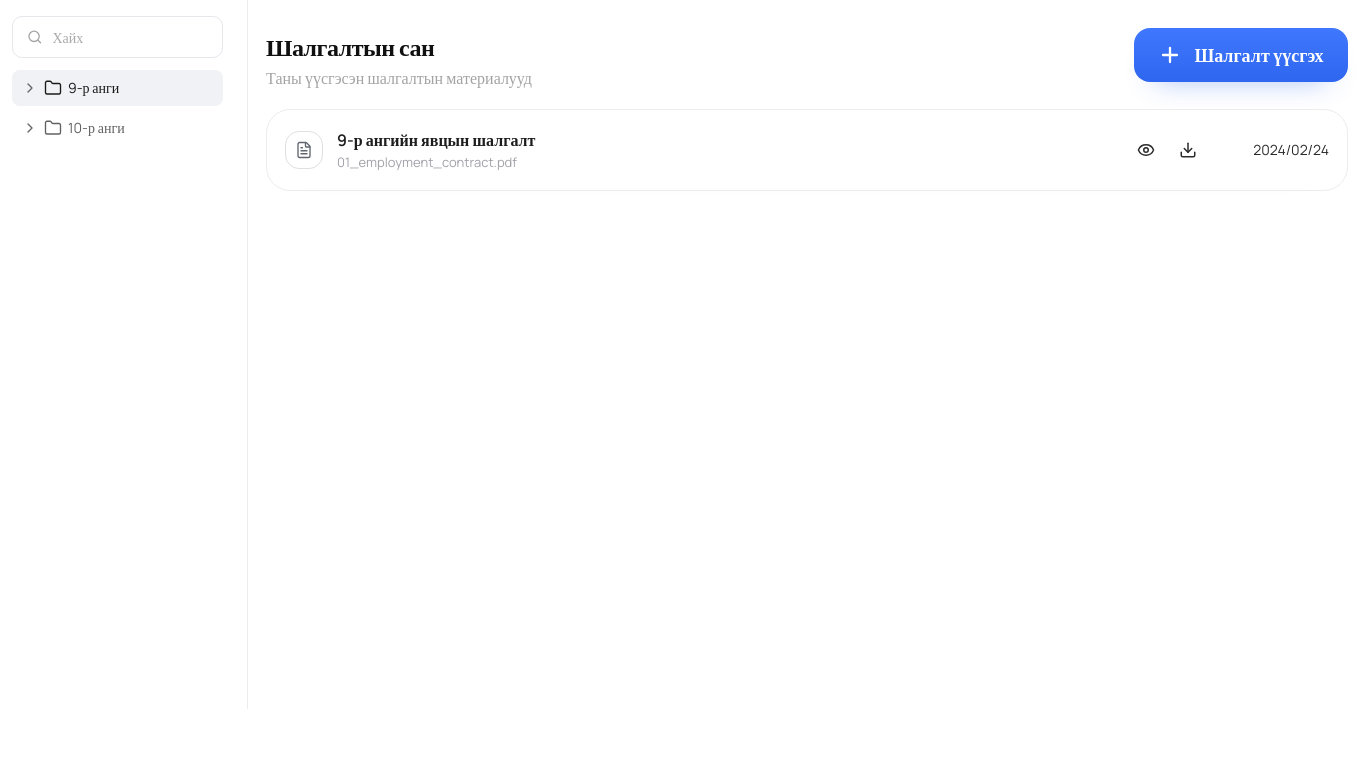
ExamListCard › shows folders in numeric order and filters exams by selected folder
Expected: the button "9-р ангийн явцын шалгалт" is shown, 337,128 -> 1089,152
Expected: the text "10-р ангийн улирлын шалгалт" is not shown
Click the button "10-р анги". click: {"x": 118, "y": 128}
box: 12,110 -> 223,146
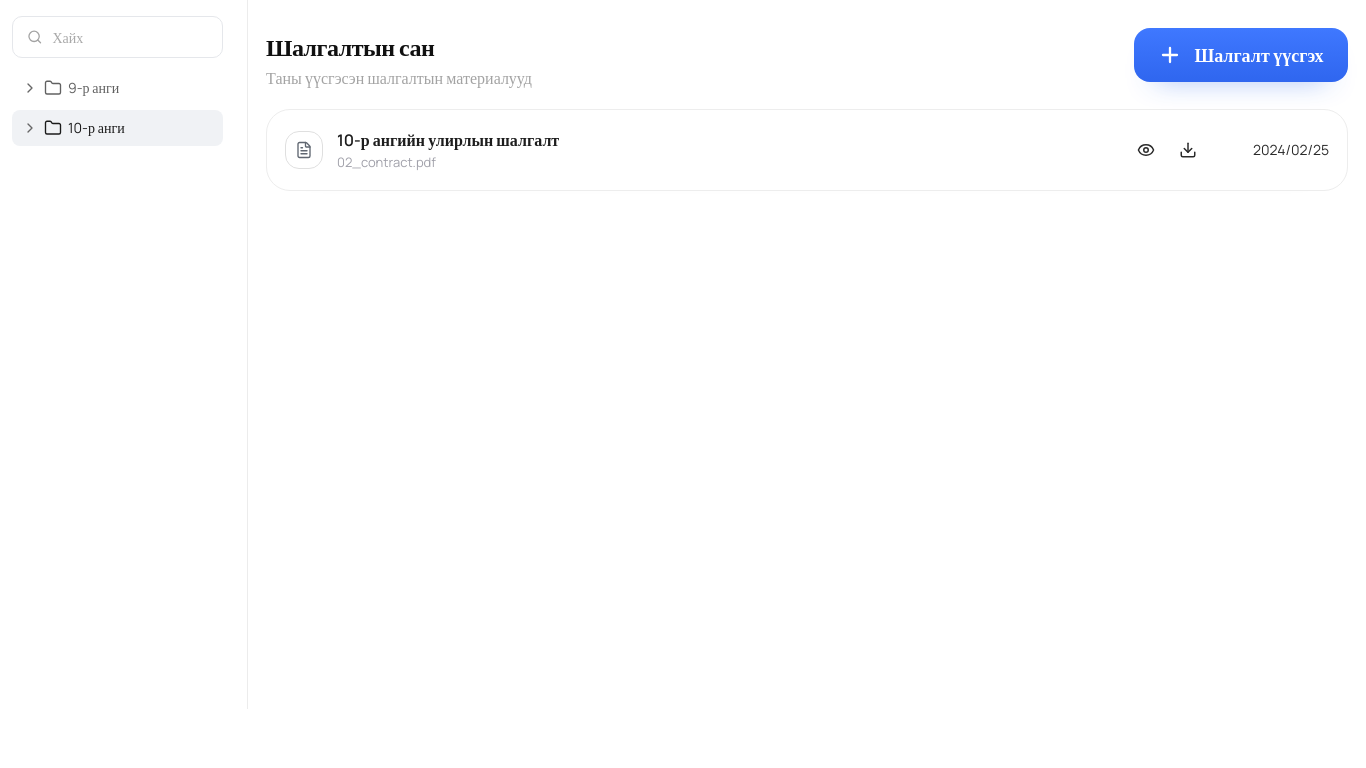
Expected: the button "10-р ангийн улирлын шалгалт" is shown, 337,128 -> 1089,152
Expected: the button "9-р ангийн явцын шалгалт" is gone
